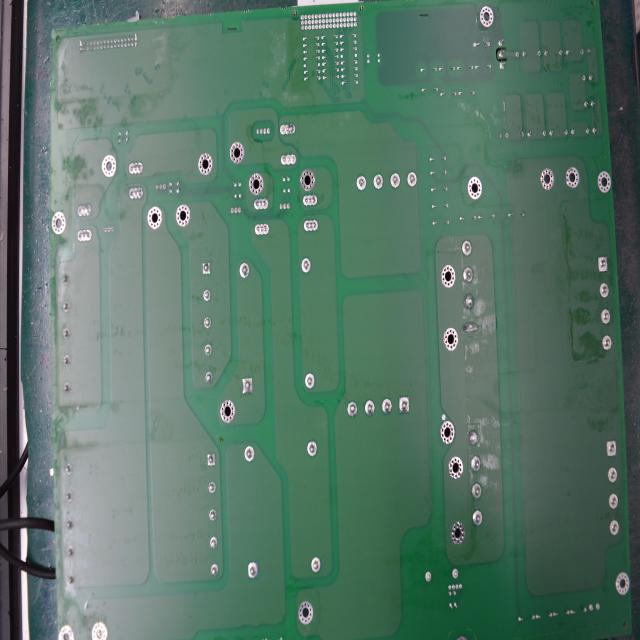slug: (460, 318, 481, 338), (467, 423, 480, 448)
